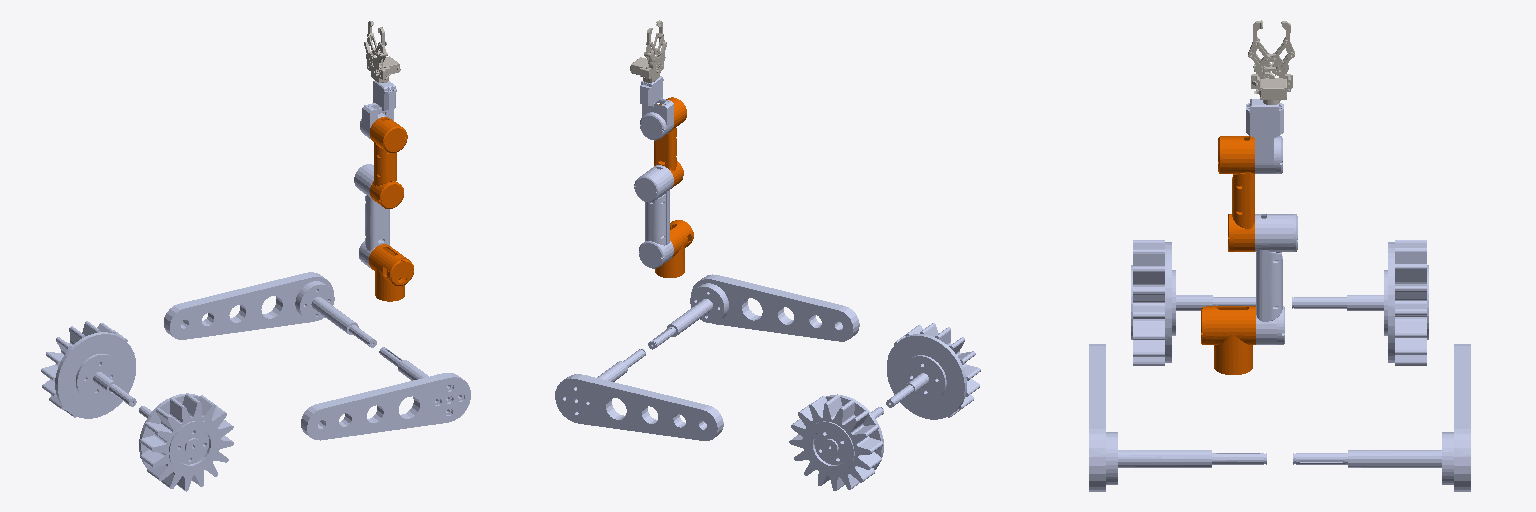
The robot description file, URDF, robot "NIXITO 2026.SLDASM":
<?xml version="1.0" encoding="utf-8"?>
<!-- This URDF was automatically created by SolidWorks to URDF Exporter! Originally created by Stephen Brawner (brawner@gmail.com) 
     Commit Version: 1.6.0-4-g7f85cfe  Build Version: 1.6.7995.38578
     For more information, please see http://wiki.ros.org/sw_urdf_exporter -->
<robot
  name="NIXITO 2026.SLDASM">
  <link
    name="base_link">
    <inertial>
      <origin
        xyz="0.00437863011032785 0.00488071387060618 0.110586475666737"
        rpy="0 0 0" />
      <mass
        value="25.5662855279903" />
      <inertia
        ixx="0.0870860204401099"
        ixy="4.66820104436843E-05"
        ixz="-0.00156328344981155"
        iyy="0.277462313947464"
        iyz="-6.55386356774102E-05"
        izz="0.287111653197617" />
    </inertial>
    <visual>
      <origin
        xyz="0 0 0"
        rpy="0 0 0" />
      <geometry>
        <mesh
          filename="package://nixito_description/meshes/base_link.STL" />
      </geometry>
      <material
        name="">
        <color
          rgba="0.0823529411764706 0.0823529411764706 0.0823529411764706 1" />
      </material>
    </visual>
    <collision>
      <origin
        xyz="0 0 0"
        rpy="0 0 0" />
      <geometry>
        <mesh
          filename="package://nixito_description/meshes/base_link.STL" />
      </geometry>
    </collision>
  </link>
  <link
    name="dir_R_link">
    <inertial>
      <origin
        xyz="-5.64265449815027E-06 1.63708517160466E-06 -0.0384132623661952"
        rpy="0 0 0" />
      <mass
        value="1.3754826889591" />
      <inertia
        ixx="0.00316961288572545"
        ixy="-1.56630451990999E-08"
        ixz="-7.12322524380198E-07"
        iyy="0.00316956344234396"
        iyz="2.06663820586351E-07"
        izz="0.00491633292421438" />
    </inertial>
    <visual>
      <origin
        xyz="0 0 0"
        rpy="0 0 0" />
      <geometry>
        <mesh
          filename="package://nixito_description/meshes/dir_R_link.STL" />
      </geometry>
      <material
        name="">
        <color
          rgba="0.792156862745098 0.819607843137255 0.933333333333333 1" />
      </material>
    </visual>
    <collision>
      <origin
        xyz="0 0 0"
        rpy="0 0 0" />
      <geometry>
        <mesh
          filename="package://nixito_description/meshes/dir_R_link.STL" />
      </geometry>
    </collision>
  </link>
  <joint
    name="dir_R_joint"
    type="continuous">
    <origin
      xyz="-0.29371 -0.22792 0.075"
      rpy="1.5708 0 0" />
    <parent
      link="base_link" />
    <child
      link="dir_R_link" />
    <axis
      xyz="0 0 1" />
    <limit
      effort="100"
      velocity="100" />
    <dynamics
      friction="0.1" />
  </joint>
  <link
    name="dir_L_link">
    <inertial>
      <origin
        xyz="-4.99717648289044E-06 3.08995548813085E-06 -0.0364132623661902"
        rpy="0 0 0" />
      <mass
        value="1.3754826889591" />
      <inertia
        ixx="0.00316960124072055"
        ixy="-2.61819263191363E-08"
        ixz="-6.30838089164463E-07"
        iyy="0.00316957508734887"
        iyz="3.90072581269323E-07"
        izz="0.00491633292421439" />
    </inertial>
    <visual>
      <origin
        xyz="0 0 0"
        rpy="0 0 0" />
      <geometry>
        <mesh
          filename="package://nixito_description/meshes/dir_L_link.STL" />
      </geometry>
      <material
        name="">
        <color
          rgba="0.792156862745098 0.819607843137255 0.933333333333333 1" />
      </material>
    </visual>
    <collision>
      <origin
        xyz="0 0 0"
        rpy="0 0 0" />
      <geometry>
        <mesh
          filename="package://nixito_description/meshes/dir_L_link.STL" />
      </geometry>
    </collision>
  </link>
  <joint
    name="dir_L_joint"
    type="continuous">
    <origin
      xyz="-0.29371 0.22608 0.075"
      rpy="1.5708 0 3.1416" />
    <parent
      link="base_link" />
    <child
      link="dir_L_link" />
    <axis
      xyz="0 0 1" />
    <limit
      effort="100"
      velocity="100" />
    <dynamics
      friction="0.1" />
  </joint>
  <link
    name="flipper_R_link">
    <inertial>
      <origin
        xyz="0.10014361960493 1.01555862551256E-05 -0.00488199703848846"
        rpy="0 0 0" />
      <mass
        value="0.875836999292697" />
      <inertia
        ixx="0.000962299324912456"
        ixy="-2.50556230470828E-09"
        ixz="-7.65665235947313E-06"
        iyy="0.00851689142758344"
        iyz="8.58020499110178E-07"
        izz="0.0085709150591796" />
    </inertial>
    <visual>
      <origin
        xyz="0 0 0"
        rpy="0 0 0" />
      <geometry>
        <mesh
          filename="package://nixito_description/meshes/flipper_R_link.STL" />
      </geometry>
      <material
        name="">
        <color
          rgba="0.792156862745098 0.819607843137255 0.933333333333333 1" />
      </material>
    </visual>
    <collision>
      <origin
        xyz="0 0 0"
        rpy="0 0 0" />
      <geometry>
        <mesh
          filename="package://nixito_description/meshes/flipper_R_link.STL" />
      </geometry>
    </collision>
  </link>
  <joint
    name="flipper_R_joint"
    type="fixed">
    <origin
      xyz="0.26929 -0.26547 0.075"
      rpy="-1.5708 -0.050021 3.1416" />
    <parent
      link="base_link" />
    <child
      link="flipper_R_link" />
    <axis
      xyz="0 0 1" />
    <limit
      effort="100"
      velocity="100" />
    <dynamics
      friction="0.1" />
  </joint>
  <link
    name="flipper_L_link">
    <inertial>
      <origin
        xyz="0.00238935305921779 -0.100126505199991 0.240800885856043"
        rpy="0 0 0" />
      <mass
        value="0.875836999292697" />
      <inertia
        ixx="0.00851256923866617"
        ixy="0.000180193083284295"
        ixz="1.8031713726932E-07"
        iyy="0.000966621513829713"
        iyz="-8.41930116924885E-06"
        izz="0.00857091505917959" />
    </inertial>
    <visual>
      <origin
        xyz="0 0 0"
        rpy="0 0 0" />
      <geometry>
        <mesh
          filename="package://nixito_description/meshes/flipper_L_link.STL" />
      </geometry>
      <material
        name="">
        <color
          rgba="0.792156862745098 0.819607843137255 0.933333333333333 1" />
      </material>
    </visual>
    <collision>
      <origin
        xyz="0 0 0"
        rpy="0 0 0" />
      <geometry>
        <mesh
          filename="package://nixito_description/meshes/flipper_L_link.STL" />
      </geometry>
    </collision>
  </link>
  <joint
    name="flipper_L_joint"
    type="fixed">
    <origin
      xyz="0.26929 0.020085 0.075"
      rpy="-1.5708 -1.5446 0" />
    <parent
      link="base_link" />
    <child
      link="flipper_L_link" />
    <axis
      xyz="0 0 1" />
    <limit
      effort="100"
      velocity="100" />
    <dynamics
      friction="0.1" />
  </joint>
  <link
    name="Hombro_link">
    <inertial>
      <origin
        xyz="0.000329220499828003 0.00386263654781993 0.0272367282663454"
        rpy="0 0 0" />
      <mass
        value="0.101386819832072" />
      <inertia
        ixx="0.000131260455190187"
        ixy="1.14653159950188E-06"
        ixz="-5.19436298812016E-07"
        iyy="0.00011295516987088"
        iyz="-1.36136929698582E-05"
        izz="9.02372535296635E-05" />
    </inertial>
    <visual>
      <origin
        xyz="0 0 0"
        rpy="0 0 0" />
      <geometry>
        <mesh
          filename="package://nixito_description/meshes/Hombro_link.STL" />
      </geometry>
      <material
        name="">
        <color
          rgba="0.909803921568627 0.443137254901961 0.0313725490196078 1" />
      </material>
    </visual>
    <collision>
      <origin
        xyz="0 0 0"
        rpy="0 0 0" />
      <geometry>
        <mesh
          filename="package://nixito_description/meshes/Hombro_link.STL" />
      </geometry>
    </collision>
  </link>
  <joint
    name="Hombro_joint"
    type="continuous">
    <origin
      xyz="0.25649 -0.070909 0.24936"
      rpy="0 0 0" />
    <parent
      link="base_link" />
    <child
      link="Hombro_link" />
    <axis
      xyz="0 0 1" />
    <limit
      lower="0"
      upper="0"
      effort="100"
      velocity="100" />
    <dynamics
      friction="0.1" />
  </joint>
  <link
    name="E1_link">
    <inertial>
      <origin
        xyz="-5.97803541966951E-05 0.0840247601562089 0.0130180348999693"
        rpy="0 0 0" />
      <mass
        value="0.192290389959318" />
      <inertia
        ixx="0.000566355912897058"
        ixy="-2.9126267212515E-09"
        ixz="5.11953924486943E-10"
        iyy="7.61514048875042E-05"
        iyz="-1.41627060807744E-06"
        izz="0.000596781058948479" />
    </inertial>
    <visual>
      <origin
        xyz="0 0 0"
        rpy="0 0 0" />
      <geometry>
        <mesh
          filename="package://nixito_description/meshes/E1_link.STL" />
      </geometry>
      <material
        name="">
        <color
          rgba="0.792156862745098 0.819607843137255 0.933333333333333 1" />
      </material>
    </visual>
    <collision>
      <origin
        xyz="0 0 0"
        rpy="0 0 0" />
      <geometry>
        <mesh
          filename="package://nixito_description/meshes/E1_link.STL" />
      </geometry>
    </collision>
  </link>
  <joint
    name="E1_joint"
    type="continuous">
    <origin
      xyz="0 0.039994 0.043491"
      rpy="1.5708 0 3.1416" />
    <parent
      link="Hombro_link" />
    <child
      link="E1_link" />
    <axis
      xyz="0 0 1" />
    <limit
      effort="100"
      velocity="100" />
    <dynamics
      friction="0.1" />
  </joint>
  <link
    name="E2_link">
    <inertial>
      <origin
        xyz="1.29229049467133E-05 0.0803343269372555 0.00131136435295082"
        rpy="0 0 0" />
      <mass
        value="0.135201035415251" />
      <inertia
        ixx="0.000316772469867071"
        ixy="-1.15600964123082E-07"
        ixz="7.67028277549168E-09"
        iyy="5.41327489366859E-05"
        iyz="-1.27830667660268E-06"
        izz="0.000340633230607744" />
    </inertial>
    <visual>
      <origin
        xyz="0 0 0"
        rpy="0 0 0" />
      <geometry>
        <mesh
          filename="package://nixito_description/meshes/E2_link.STL" />
      </geometry>
      <material
        name="">
        <color
          rgba="0.909803921568627 0.443137254901961 0.0313725490196078 1" />
      </material>
    </visual>
    <collision>
      <origin
        xyz="0 0 0"
        rpy="0 0 0" />
      <geometry>
        <mesh
          filename="package://nixito_description/meshes/E2_link.STL" />
      </geometry>
    </collision>
  </link>
  <joint
    name="E2_joint"
    type="continuous">
    <origin
      xyz="0 0.15071 -0.023865"
      rpy="3.1416 0 3.1416" />
    <parent
      link="E1_link" />
    <child
      link="E2_link" />
    <axis
      xyz="0 0 1" />
    <limit
      effort="100"
      velocity="100" />
    <dynamics
      friction="0.1" />
  </joint>
  <link
    name="E3_link">
    <inertial>
      <origin
        xyz="0.0390723877633097 0.00588082672902912 0.0105723183138784"
        rpy="0 0 0" />
      <mass
        value="0.0998628576612143" />
      <inertia
        ixx="4.80345624492912E-05"
        ixy="-1.06378505581651E-05"
        ixz="1.41195084359271E-06"
        iyy="7.76267111046649E-05"
        iyz="3.82828489061288E-07"
        izz="9.11815154704042E-05" />
    </inertial>
    <visual>
      <origin
        xyz="0 0 0"
        rpy="0 0 0" />
      <geometry>
        <mesh
          filename="package://nixito_description/meshes/E3_link.STL" />
      </geometry>
      <material
        name="">
        <color
          rgba="0.792156862745098 0.819607843137255 0.933333333333333 1" />
      </material>
    </visual>
    <collision>
      <origin
        xyz="0 0 0"
        rpy="0 0 0" />
      <geometry>
        <mesh
          filename="package://nixito_description/meshes/E3_link.STL" />
      </geometry>
    </collision>
  </link>
  <joint
    name="E3_joint"
    type="continuous">
    <origin
      xyz="0 0.13629 -0.023865"
      rpy="-3.1416 0 1.5708" />
    <parent
      link="E2_link" />
    <child
      link="E3_link" />
    <axis
      xyz="0 0 1" />
    <limit
      effort="100"
      velocity="100" />
    <dynamics
      friction="0.1" />
  </joint>
  <link
    name="gripper_link">
    <inertial>
      <origin
        xyz="-0.00049595 -0.0036162 -0.0030286"
        rpy="0 0 0" />
      <mass
        value="0.053209" />
      <inertia
        ixx="1.1716E-05"
        ixy="-1.1243E-08"
        ixz="-7.084E-08"
        iyy="1.9136E-05"
        iyz="9.1596E-07"
        izz="9.5435E-06" />
    </inertial>
    <visual>
      <origin
        xyz="0 0 0"
        rpy="0 0 0" />
      <geometry>
        <mesh
          filename="package://nixito_description/meshes/gripper_link.STL" />
      </geometry>
      <material
        name="">
        <color
          rgba="0.78039 0.76078 0.74118 1" />
      </material>
    </visual>
    <collision>
      <origin
        xyz="0 0 0"
        rpy="0 0 0" />
      <geometry>
        <mesh
          filename="package://nixito_description/meshes/gripper_link.STL" />
      </geometry>
    </collision>
  </link>
  <joint
    name="gripper_joint"
    type="fixed">
    <origin
      xyz="0.13835 0.0045 0.01815"
      rpy="3.1416 1.5708 0" />
    <parent
      link="E3_link" />
    <child
      link="gripper_link" />
    <axis
      xyz="0 0 1" />
    <limit
      effort="100"
      velocity="100" />
    <dynamics
      friction="0.1" />
  </joint>
</robot>

--- What the picture shows (computed from the rendered views, not written in the file) ---
Views: 3 orthographic renders of the robot side by side, from view 1: azimuth 30°, elevation 25°; view 2: azimuth 150°, elevation 25°; view 3: azimuth 270°, elevation 25°.
Model NIXITO 2026.SLDASM with 10 links and 9 joints (6 continuous, 3 fixed), rooted at base_link, posed all joints at 0.
Visible links, largest first — view 1: flipper_L_link, flipper_R_link, dir_L_link, dir_R_link, E2_link, Hombro_link, E1_link, E3_link, gripper_link; view 2: flipper_R_link, flipper_L_link, dir_R_link, dir_L_link, E1_link, E3_link, E2_link, Hombro_link, gripper_link; view 3: dir_L_link, dir_R_link, flipper_R_link, flipper_L_link, E1_link, E2_link, Hombro_link, E3_link, gripper_link.
Link boxes in pixels (bbox=[...]): flipper_L_link: bbox=[164, 272, 376, 347]; flipper_R_link: bbox=[301, 347, 470, 440]; dir_L_link: bbox=[41, 321, 136, 418]; dir_R_link: bbox=[139, 393, 233, 491]; E2_link: bbox=[370, 117, 407, 208]; Hombro_link: bbox=[369, 244, 413, 301]; E1_link: bbox=[354, 164, 389, 267]; E3_link: bbox=[360, 81, 396, 138]; gripper_link: bbox=[364, 21, 400, 82]; flipper_R_link: bbox=[648, 274, 859, 349]; flipper_L_link: bbox=[555, 349, 723, 440]; dir_R_link: bbox=[886, 323, 980, 419]; dir_L_link: bbox=[789, 394, 883, 490]; E1_link: bbox=[634, 165, 673, 268]; E3_link: bbox=[640, 76, 673, 140]; E2_link: bbox=[654, 97, 686, 188]; Hombro_link: bbox=[655, 220, 693, 277]; gripper_link: bbox=[630, 20, 666, 82]; dir_L_link: bbox=[1292, 240, 1428, 365]; dir_R_link: bbox=[1131, 240, 1255, 365]; flipper_R_link: bbox=[1089, 344, 1266, 491]; flipper_L_link: bbox=[1293, 344, 1470, 491]; E1_link: bbox=[1255, 214, 1297, 344]; E2_link: bbox=[1218, 136, 1254, 251]; Hombro_link: bbox=[1201, 306, 1255, 374]; E3_link: bbox=[1246, 99, 1283, 173]; gripper_link: bbox=[1248, 20, 1294, 104].
Size in the robot's own frame: 0.7099 by 0.5819 by 0.8271 metres.
Meshes: 10 distinct files referenced, 9 mesh visuals loaded (9 binary STL); not drawn: 1 (reference not matched to a file when rendering).
